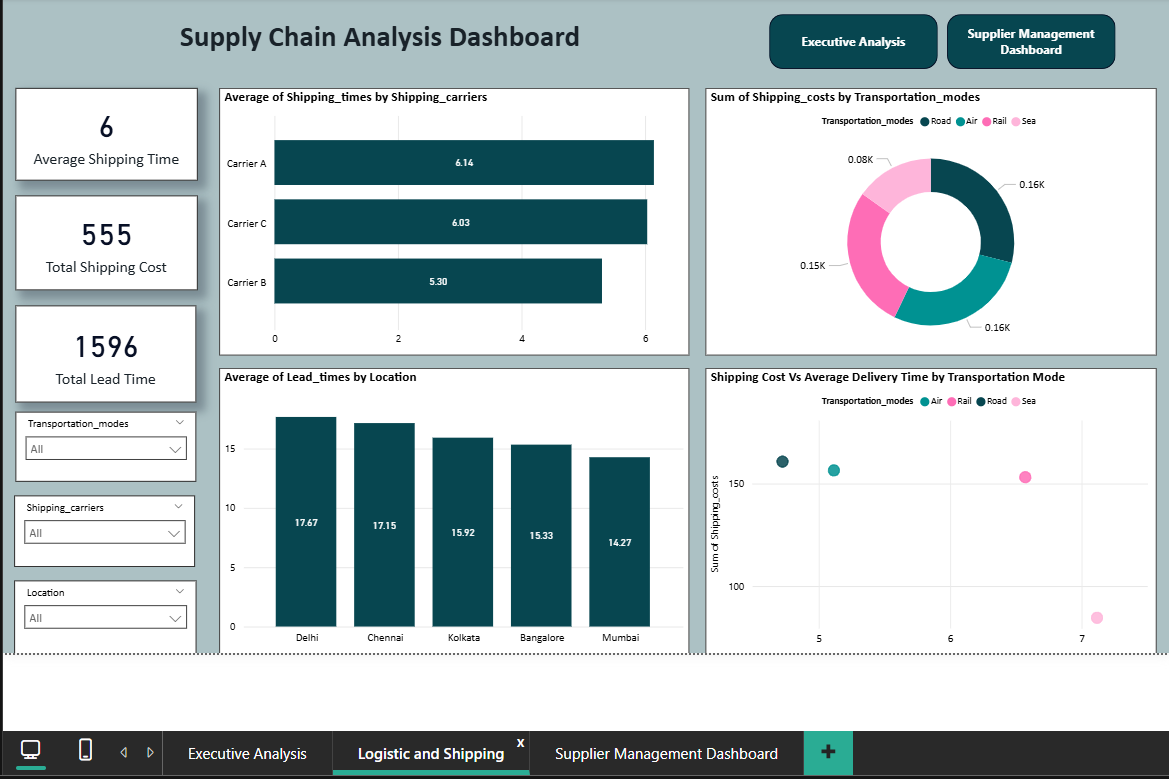

This screenshot's page, from the dashboard's own definition file:
{"tool":"powerbi","page":{"name":"Logistic and Shipping","canvas":[1280,720],"ordinal":1},"visuals":[{"type":"barChart","fields":{"Category":["Cleaned_supply_chain_data.Shipping_carriers"],"Y":["Avg(Cleaned_supply_chain_data.Shipping_times)"]},"box":[237.4,98.8,516,293.7],"z":0},{"type":"donutChart","fields":{"Category":["Cleaned_supply_chain_data.Transportation_modes"],"Y":["Sum(Cleaned_supply_chain_data.Shipping_costs)"]},"box":[771.2,98.8,495.4,293.7],"z":1000},{"type":"columnChart","fields":{"Category":["Cleaned_supply_chain_data.Location"],"Y":["Avg(Cleaned_supply_chain_data.Lead_times)"]},"box":[237.4,406.2,516,314.2],"z":2000},{"type":"scatterChart","title":"Shipping Cost Vs Average Delivery Time by Transportation Mode","fields":{"X":["Avg(Cleaned_supply_chain_data.Shipping_times)"],"Y":["Sum(Cleaned_supply_chain_data.Shipping_costs)"],"Series":["Cleaned_supply_chain_data.Transportation_modes"]},"box":[771.2,406.2,495.4,314.2],"z":3000},{"type":"card","fields":{"Values":["Avg(Cleaned_supply_chain_data.Shipping_times)"]},"box":[13.5,98.6,200,101.4],"z":4000},{"type":"card","fields":{"Values":["Sum(Cleaned_supply_chain_data.Shipping_costs)"]},"box":[13.5,216.2,200,104.1],"z":5000},{"type":"card","fields":{"Values":["Sum(Cleaned_supply_chain_data.Lead_times)"]},"box":[13.5,337.8,198.6,106.8],"z":6000},{"type":"slicer","fields":{"Values":["Cleaned_supply_chain_data.Transportation_modes"]},"box":[13.5,454.1,198.6,77],"z":7000},{"type":"slicer","fields":{"Values":["Cleaned_supply_chain_data.Shipping_carriers"]},"box":[12.2,545.9,198.6,78.4],"z":8000},{"type":"slicer","fields":{"Values":["Cleaned_supply_chain_data.Location"]},"box":[12.2,639.2,200,81.1],"z":9000},{"type":"textbox","box":[189.4,17.8,474.8,60.4],"z":10000},{"type":"pageNavigator","box":[841.2,17.8,381.5,60.4],"z":11000}]}

Visuals, with their boxes on the page's 1280x720 design canvas (x1, y1, x2, y2). These are canvas units, not pixel positions in the 1169x779 screenshot, which may show the page scaled, cropped or inside an application window:
barChart - Cleaned_supply_chain_data.Shipping_carriers x Avg(Cleaned_supply_chain_data.Shipping_times): (237, 99, 753, 392)
donutChart - Cleaned_supply_chain_data.Transportation_modes x Sum(Cleaned_supply_chain_data.Shipping_costs): (771, 99, 1267, 392)
columnChart - Cleaned_supply_chain_data.Location x Avg(Cleaned_supply_chain_data.Lead_times): (237, 406, 753, 720)
"Shipping Cost Vs Average Delivery Time by Transportation Mode" scatterChart: (771, 406, 1267, 720)
card - Avg(Cleaned_supply_chain_data.Shipping_times): (14, 99, 214, 200)
card - Sum(Cleaned_supply_chain_data.Shipping_costs): (14, 216, 214, 320)
card - Sum(Cleaned_supply_chain_data.Lead_times): (14, 338, 212, 445)
slicer - Cleaned_supply_chain_data.Transportation_modes: (14, 454, 212, 531)
slicer - Cleaned_supply_chain_data.Shipping_carriers: (12, 546, 211, 624)
slicer - Cleaned_supply_chain_data.Location: (12, 639, 212, 720)
textbox: (189, 18, 664, 78)
pageNavigator: (841, 18, 1223, 78)
